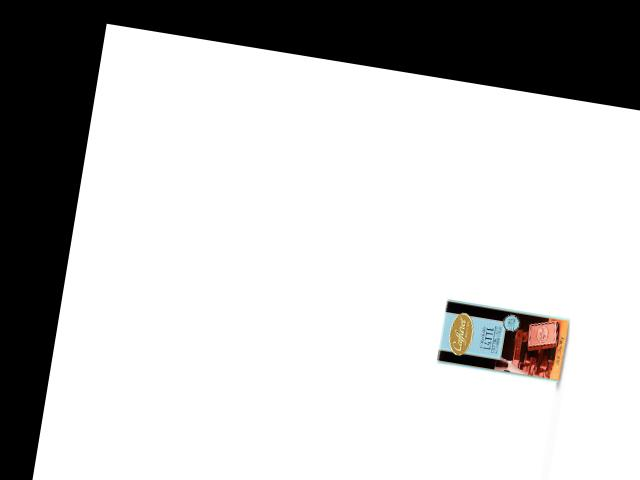chocolate: (435, 297, 571, 385)
